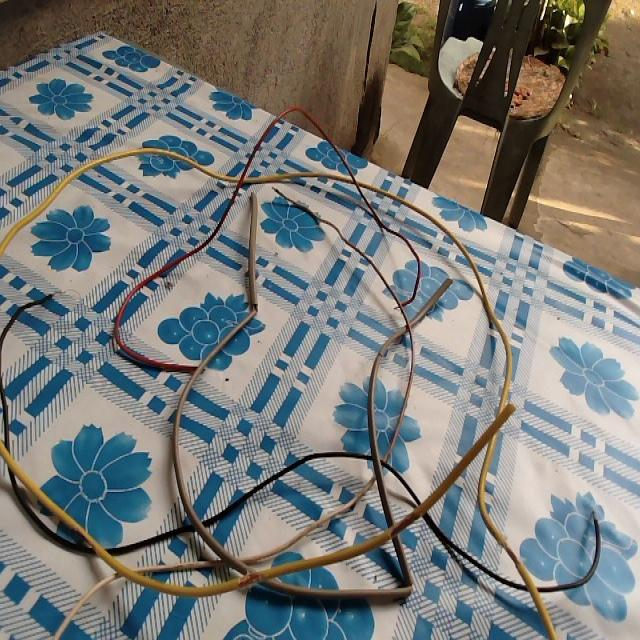-: (494, 534, 523, 570), (67, 525, 99, 555), (237, 569, 267, 588), (248, 296, 261, 317), (390, 296, 403, 315)
